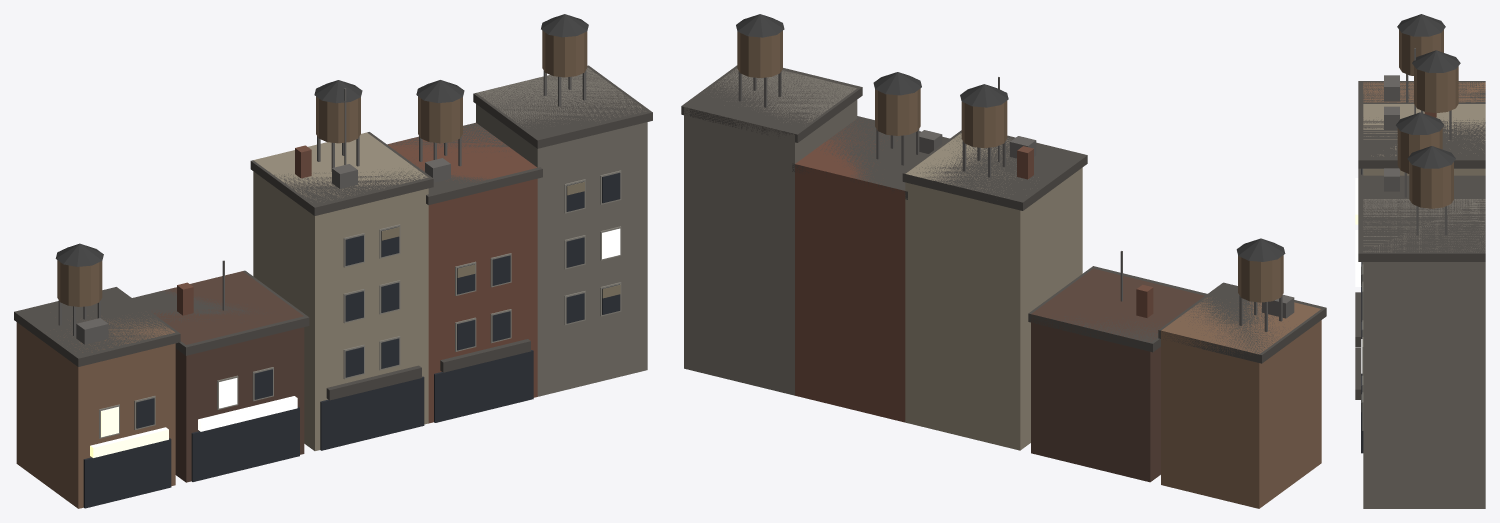
File: backdrop_skyline_a.glb
3 renders of one model, left to right at view 1: azimuth 30°, elevation 25°; view 2: azimuth 150°, elevation 25°; view 3: azimuth 270°, elevation 25°, orthographic.
Parts seen in each view (by area): view 1: backdrop_skyline_a; view 2: backdrop_skyline_a; view 3: backdrop_skyline_a.
Part boxes in pixels (x1,y1,x2,y2): backdrop_skyline_a: [14, 14, 652, 508]; backdrop_skyline_a: [681, 14, 1326, 508]; backdrop_skyline_a: [1355, 14, 1485, 508].
Bounding box in the file's own units: 32.3 × 18.41 × 6.4.
